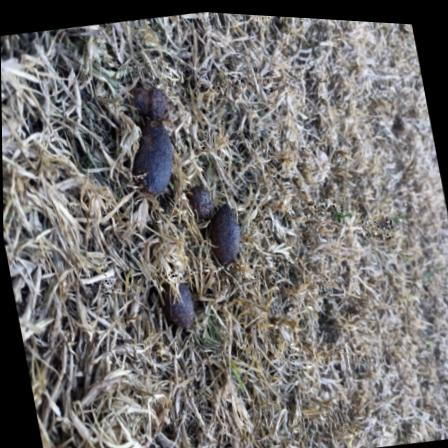dog-poop: (121, 71, 187, 202), (188, 178, 256, 267), (153, 268, 209, 336)
